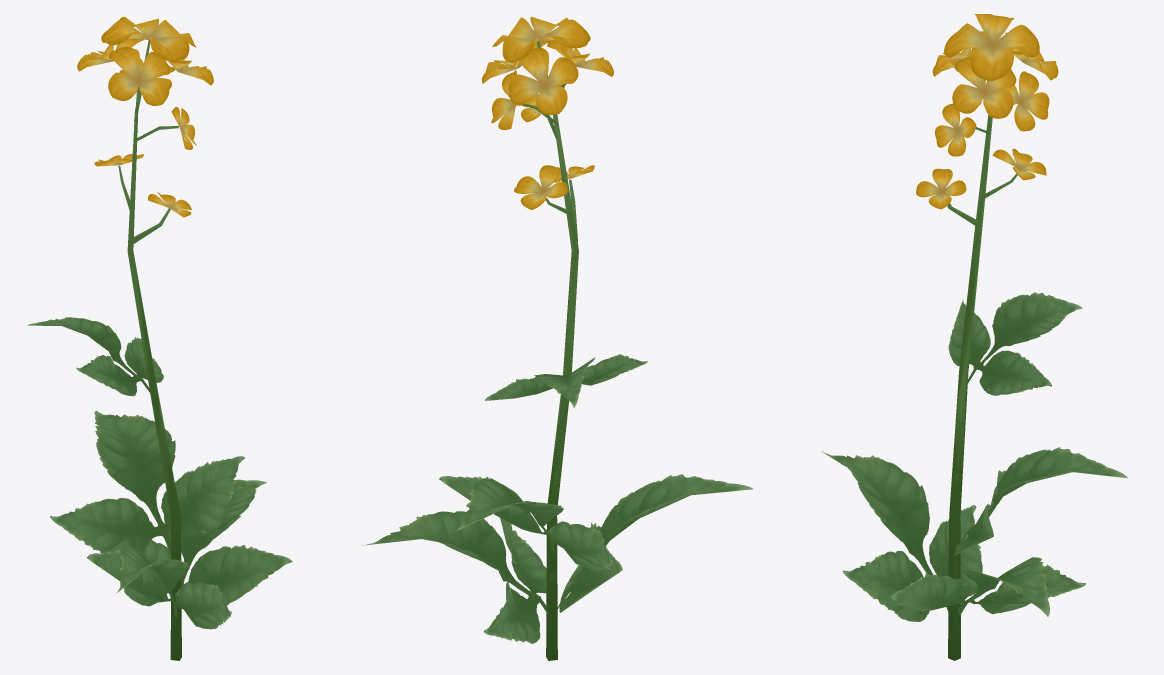
The model's file is SM_EastLands_Rapeseed_02.fbx.
The picture shows the model from 3 angles, left to right: view 1: azimuth 30°, elevation 25°; view 2: azimuth 150°, elevation 25°; view 3: azimuth 270°, elevation 25°; orthographic projection. The views are drawn at different scales.
Visible parts, largest first — view 1: SM_EastLands_Rapeseed_02_LOD0; view 2: SM_EastLands_Rapeseed_02_LOD0; view 3: SM_EastLands_Rapeseed_02_LOD0.
Part boxes in pixels (x1=…): SM_EastLands_Rapeseed_02_LOD0: x1=27, y1=16, x2=292, y2=660; SM_EastLands_Rapeseed_02_LOD0: x1=362, y1=16, x2=752, y2=660; SM_EastLands_Rapeseed_02_LOD0: x1=822, y1=14, x2=1127, y2=660.
Bounding box in the file's own units: 69 × 139 × 68.67.
